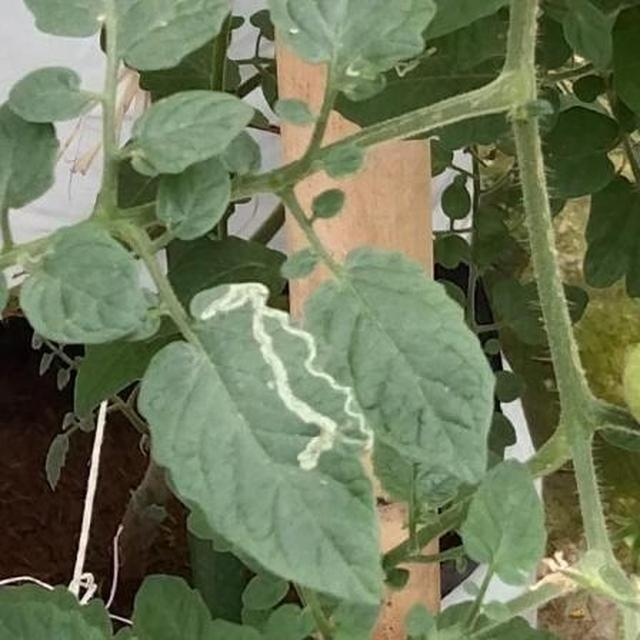Leaf Miner: (71, 89, 640, 640)
